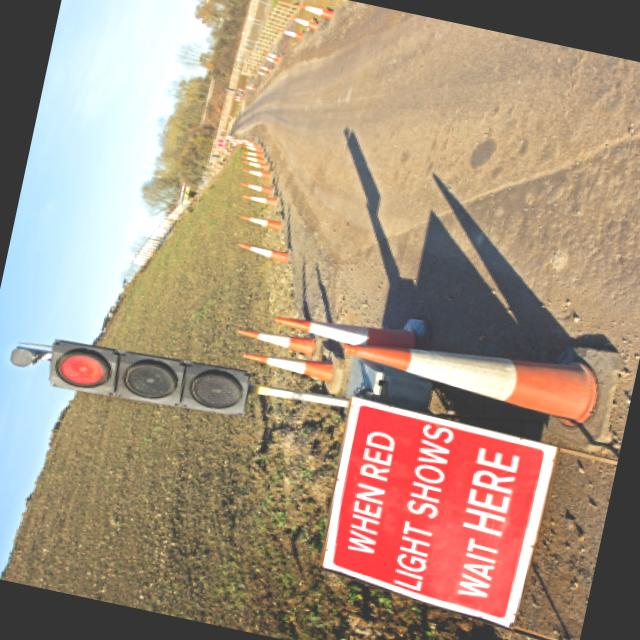cone: (338, 312, 606, 424), (230, 317, 318, 358), (224, 232, 295, 268), (230, 208, 284, 235), (290, 0, 345, 20), (233, 184, 279, 206)
